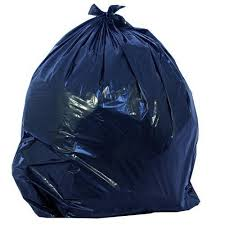Trash: (3, 1, 214, 219)
